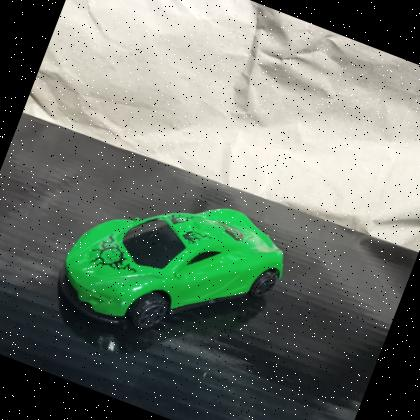Car: (58, 209, 284, 328)
